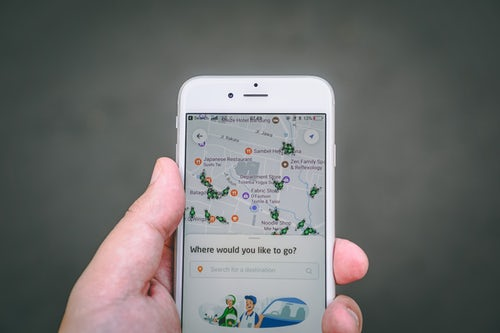phone: (174, 74, 339, 333)
